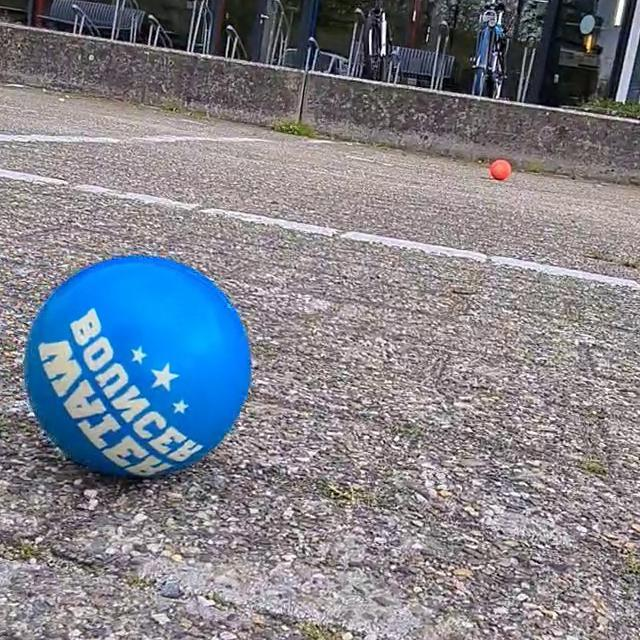ball: (488, 155, 512, 184)
